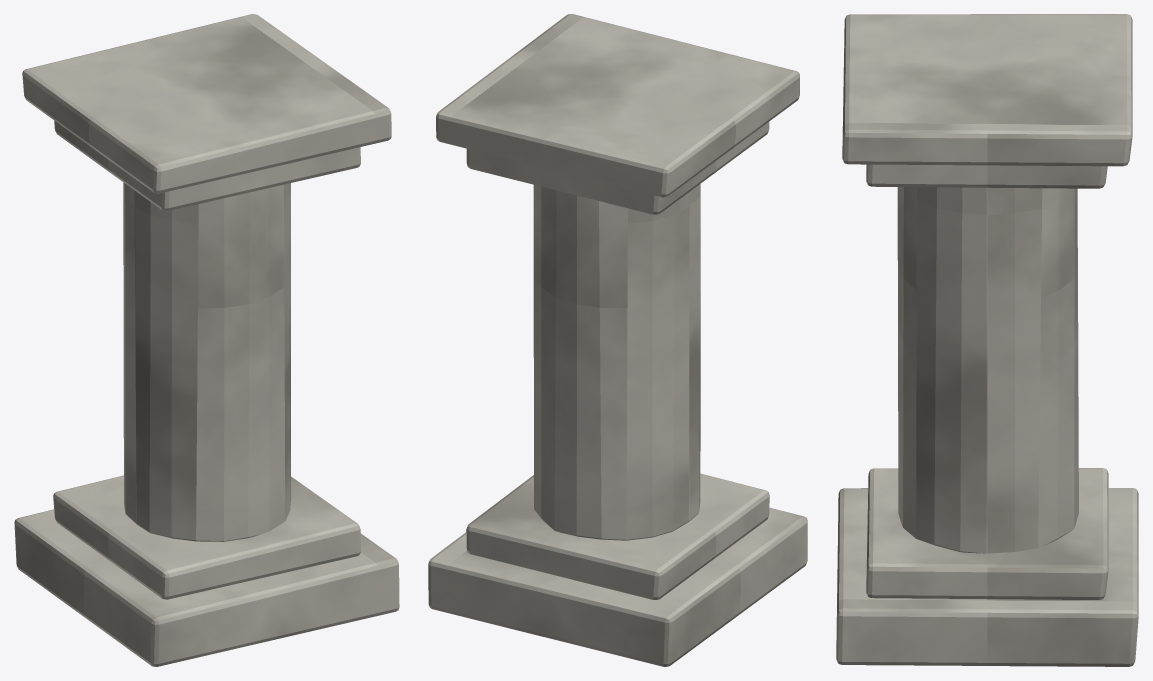
The model's file is P04_stone_pedestal_v1.glb.
3 renders of one model, left to right at view 1: azimuth 30°, elevation 25°; view 2: azimuth 150°, elevation 25°; view 3: azimuth 270°, elevation 25°, orthographic. The views are drawn at different scales.
Parts seen in each view (by area): view 1: P04_stone_pedestal_v1; view 2: P04_stone_pedestal_v1; view 3: P04_stone_pedestal_v1.
Part boxes in pixels (left/top/right/bottom): P04_stone_pedestal_v1: left=14, top=14, right=399, bottom=666; P04_stone_pedestal_v1: left=428, top=14, right=807, bottom=666; P04_stone_pedestal_v1: left=836, top=14, right=1138, bottom=666.
Size of the model in its own units: 0.5128 by 1 by 0.5131.
Materials: 1 (1 with a texture image).
